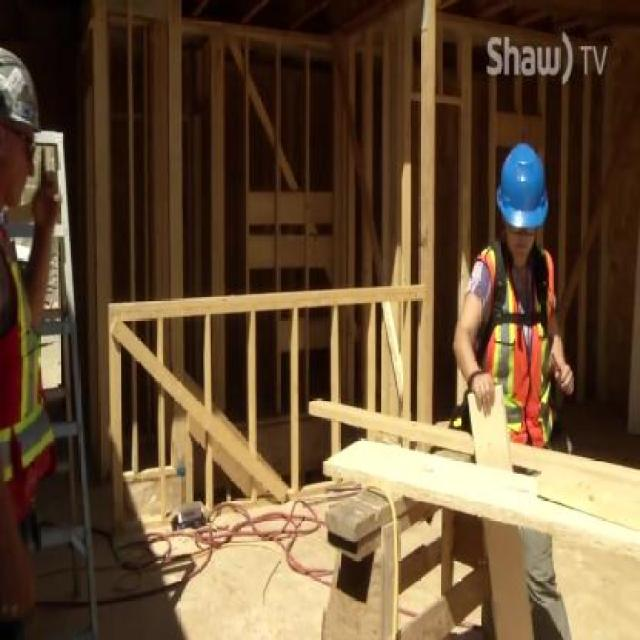Vest: (473, 240, 556, 449), (0, 217, 55, 520)
helmet: (496, 144, 550, 225), (0, 43, 43, 134)
person: (449, 149, 577, 640), (0, 52, 60, 640)
